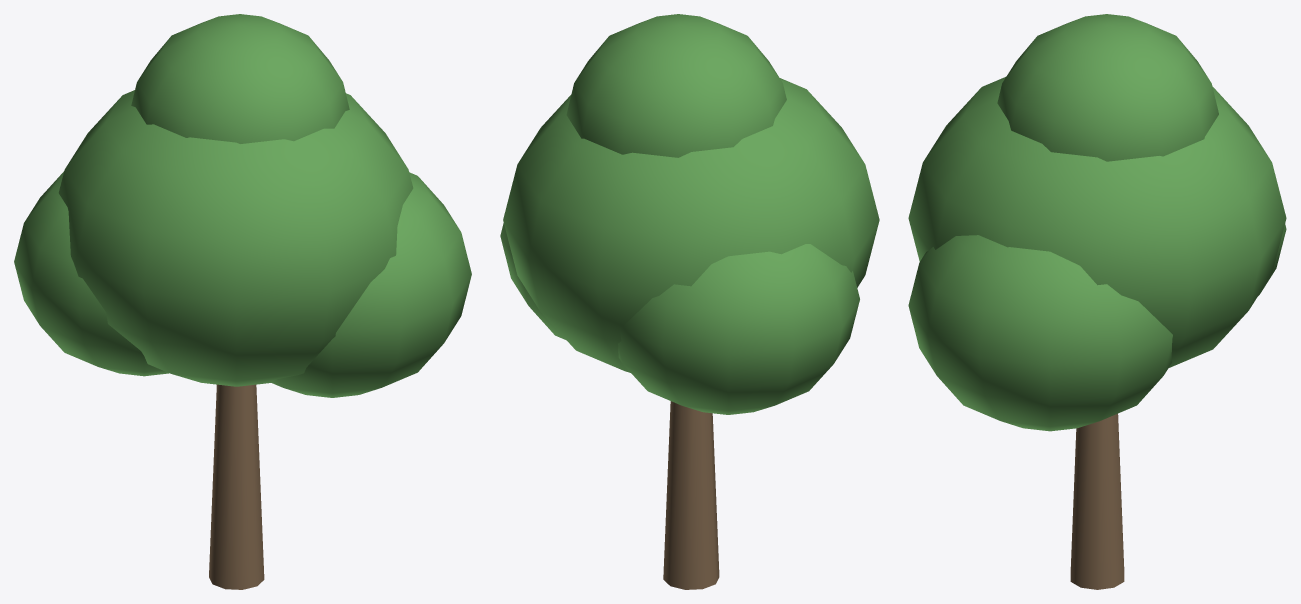
Rendered from tree.glb.
3 renders of one model, left to right at view 1: azimuth 30°, elevation 25°; view 2: azimuth 150°, elevation 25°; view 3: azimuth 270°, elevation 25°, orthographic.
Visible parts, largest first — view 1: Tree; view 2: Tree; view 3: Tree.
Boxes of the visible parts, x1=… form: Tree: x1=14, y1=14, x2=471, y2=589; Tree: x1=500, y1=14, x2=879, y2=589; Tree: x1=908, y1=14, x2=1286, y2=589.
Size of the model in its own units: 4.6 by 6.5 by 4.
